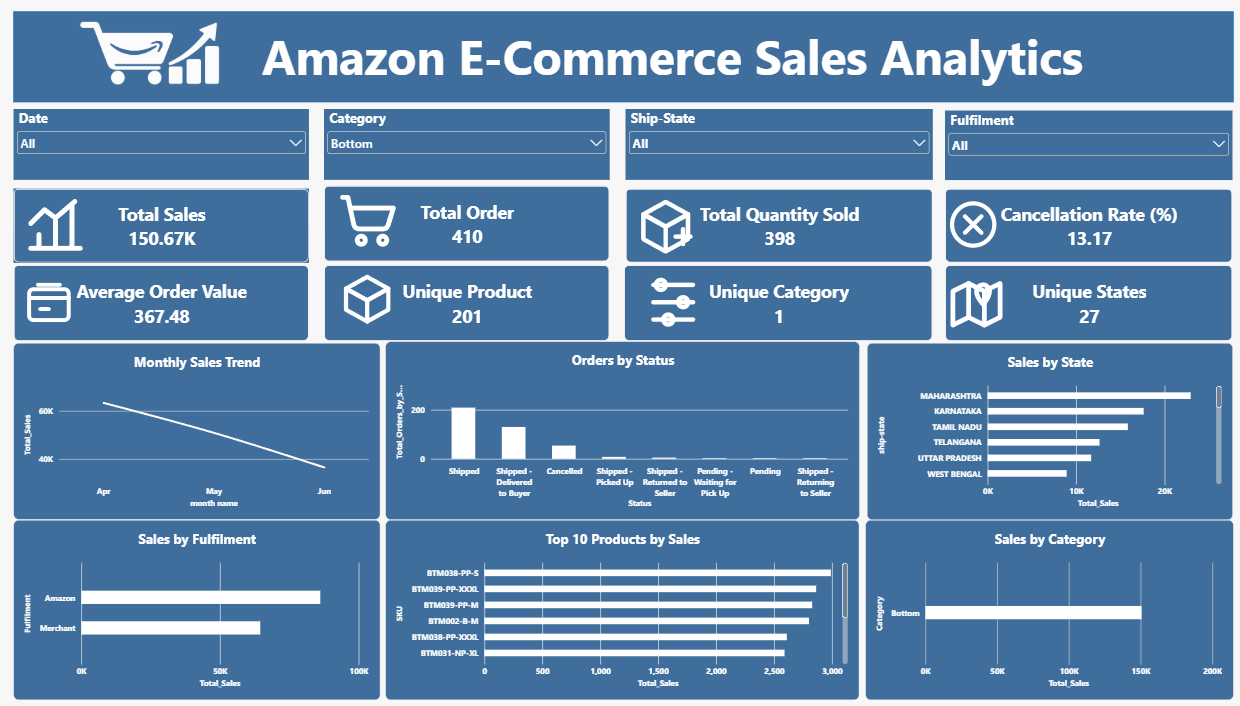

Layout of this report page (visuals, bound fields, positions):
{"tool":"powerbi","page":{"name":"Page 1","canvas":[1920,1080],"ordinal":0},"visuals":[{"type":"shape","box":[35,20,1847.5,137.5],"z":0},{"type":"textbox","box":[365,37.5,1332.5,102.5],"z":1000},{"type":"cardVisual","fields":{"Data":["amazon_ecommerce amazon_ecommerce_cleaned.Total_Sales"]},"box":[35,287.5,447.5,112.5],"z":2000},{"type":"cardVisual","fields":{"Data":["amazon_ecommerce amazon_ecommerce_cleaned.Total_Order"]},"box":[505,285,432.5,115],"z":3000},{"type":"cardVisual","fields":{"Data":["amazon_ecommerce amazon_ecommerce_cleaned.Total_Quantity_Sold"]},"box":[960,287.5,465,112.5],"z":4000},{"type":"cardVisual","title":"Cancellation Rate (%)","fields":{"Data":["amazon_ecommerce amazon_ecommerce_cleaned.Cancellation_Rate"]},"box":[1445,287.5,435,112.5],"z":5000},{"type":"cardVisual","fields":{"Data":["amazon_ecommerce amazon_ecommerce_cleaned.Average_Order_Value"]},"box":[35,405,447.5,115],"z":6000},{"type":"cardVisual","fields":{"Data":["amazon_ecommerce amazon_ecommerce_cleaned.Unique_Product"]},"box":[505,405,432.5,115],"z":7000},{"type":"cardVisual","fields":{"Data":["amazon_ecommerce amazon_ecommerce_cleaned.Unique_Category"]},"box":[957.5,405,467.5,115],"z":8000},{"type":"cardVisual","fields":{"Data":["amazon_ecommerce amazon_ecommerce_cleaned.Unique_States"]},"box":[1445,405,435,115],"z":9000},{"type":"lineChart","title":"Monthly Sales Trend","fields":{"Category":["amazon_ecommerce amazon_ecommerce_cleaned.month number"],"Y":["amazon_ecommerce amazon_ecommerce_cleaned.Total_Sales"]},"box":[35,522.5,555,267.5],"z":10000},{"type":"clusteredBarChart","title":"Sales by Category","fields":{"Category":["amazon_ecommerce amazon_ecommerce_cleaned.Category"],"Y":["amazon_ecommerce amazon_ecommerce_cleaned.Total_Sales"]},"box":[1325,790,557.5,272.5],"z":11000},{"type":"clusteredBarChart","title":"Sales by State","fields":{"Category":["amazon_ecommerce amazon_ecommerce_cleaned.ship-state"],"Y":["amazon_ecommerce amazon_ecommerce_cleaned.Total_Sales"]},"box":[1326,522,554,268],"z":12000},{"type":"clusteredColumnChart","title":"Orders by Status","fields":{"Category":["amazon_ecommerce amazon_ecommerce_cleaned.Status"],"Y":["amazon_ecommerce amazon_ecommerce_cleaned.Total_Orders_by_Status"]},"box":[598,520,718,270],"z":13000},{"type":"clusteredBarChart","title":"Sales by Fulfilment","fields":{"Category":["amazon_ecommerce amazon_ecommerce_cleaned.Fulfilment"],"Y":["amazon_ecommerce amazon_ecommerce_cleaned.Total_Sales"]},"box":[35,790,555,272.5],"z":14000},{"type":"clusteredBarChart","title":"Top 10 Products by Sales","fields":{"Category":["amazon_ecommerce amazon_ecommerce_cleaned.SKU"],"Y":["amazon_ecommerce amazon_ecommerce_cleaned.Total_Sales"]},"box":[597.5,790,717.5,272.5],"z":15000},{"type":"slicer","fields":{"Values":["amazon_ecommerce amazon_ecommerce_cleaned.Date"]},"box":[35,167.5,447.5,107.5],"z":16000},{"type":"slicer","fields":{"Values":["amazon_ecommerce amazon_ecommerce_cleaned.Category"]},"box":[505,167.5,432.5,107.5],"z":17000},{"type":"slicer","fields":{"Values":["amazon_ecommerce amazon_ecommerce_cleaned.ship-state"]},"box":[960,167.5,465,107.5],"z":18000},{"type":"slicer","fields":{"Values":["amazon_ecommerce amazon_ecommerce_cleaned.Fulfilment"]},"box":[1445,170,435,105],"z":19000},{"type":"image","box":[47.5,292.5,100,105],"z":20000},{"type":"image","box":[520,282.5,97.5,105],"z":21000},{"type":"image","box":[965,297.5,112.5,90],"z":22000},{"type":"image","box":[1445,292.5,85,100],"z":23000},{"type":"image","box":[47.5,415,80,90],"z":24000},{"type":"image","box":[527.5,405,85,100],"z":25000},{"type":"image","box":[987.5,415,90,90],"z":26000},{"type":"image","box":[1445,410,95,105],"z":27000},{"type":"image","box":[127.5,2.5,230,154],"z":28000}]}

Visuals, with their boxes in screenshot pixels (x1, y1, x2, y2), scaled from the page's 1920x1080 canvas onto the 1240x706 screenshot:
shape: (23,13,1216,103)
textbox: (236,25,1096,92)
cardVisual - amazon_ecommerce amazon_ecommerce_cleaned.Total_Sales: (23,188,312,261)
cardVisual - amazon_ecommerce amazon_ecommerce_cleaned.Total_Order: (326,186,605,261)
cardVisual - amazon_ecommerce amazon_ecommerce_cleaned.Total_Quantity_Sold: (620,188,920,261)
"Cancellation Rate (%)" cardVisual: (933,188,1214,261)
cardVisual - amazon_ecommerce amazon_ecommerce_cleaned.Average_Order_Value: (23,265,312,340)
cardVisual - amazon_ecommerce amazon_ecommerce_cleaned.Unique_Product: (326,265,605,340)
cardVisual - amazon_ecommerce amazon_ecommerce_cleaned.Unique_Category: (618,265,920,340)
cardVisual - amazon_ecommerce amazon_ecommerce_cleaned.Unique_States: (933,265,1214,340)
"Monthly Sales Trend" lineChart: (23,342,381,516)
"Sales by Category" clusteredBarChart: (856,516,1216,695)
"Sales by State" clusteredBarChart: (856,341,1214,516)
"Orders by Status" clusteredColumnChart: (386,340,850,516)
"Sales by Fulfilment" clusteredBarChart: (23,516,381,695)
"Top 10 Products by Sales" clusteredBarChart: (386,516,849,695)
slicer - amazon_ecommerce amazon_ecommerce_cleaned.Date: (23,109,312,180)
slicer - amazon_ecommerce amazon_ecommerce_cleaned.Category: (326,109,605,180)
slicer - amazon_ecommerce amazon_ecommerce_cleaned.ship-state: (620,109,920,180)
slicer - amazon_ecommerce amazon_ecommerce_cleaned.Fulfilment: (933,111,1214,180)
image: (31,191,95,260)
image: (336,185,399,253)
image: (623,194,696,253)
image: (933,191,988,257)
image: (31,271,82,330)
image: (341,265,396,330)
image: (638,271,696,330)
image: (933,268,995,337)
image: (82,2,231,102)
